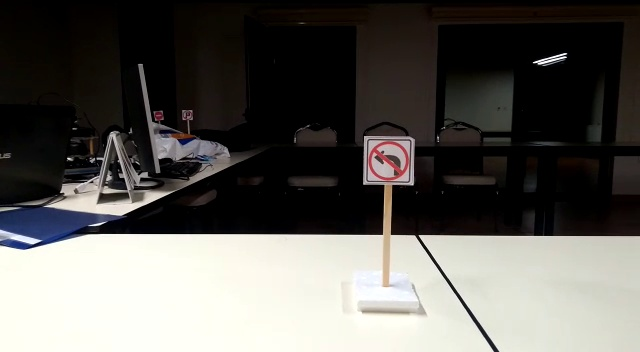sola_donulmez: (365, 136, 410, 183)
